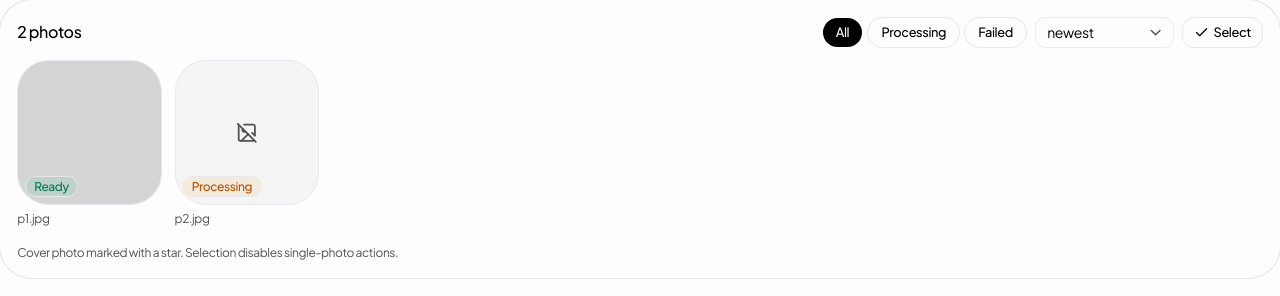
Test: PhotoGrid › filters by status through the API
Expected: the text "p1.jpg" is shown, x1=17 y1=211 x2=50 y2=226
Click the button "Processing" at (914, 32), box x1=868 y1=17 x2=960 y2=48
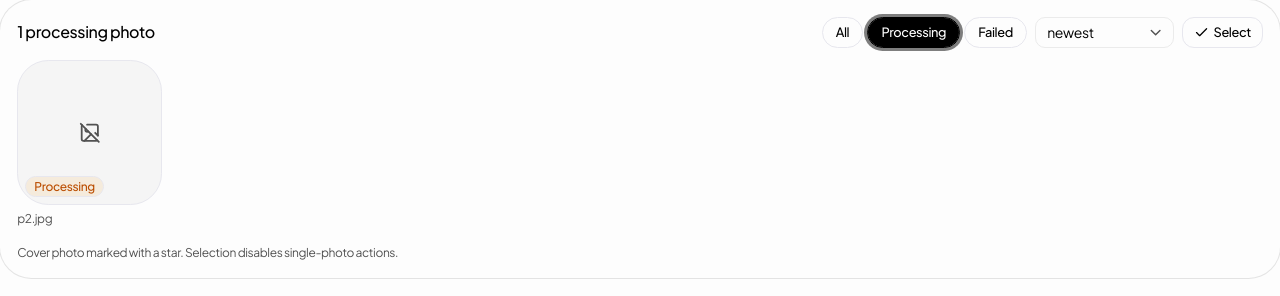
Expected: the text "p2.jpg" is shown, x1=17 y1=211 x2=52 y2=226
Expected: the text "p1.jpg" is gone
Expected: the text "1 processing photo" is shown, x1=17 y1=21 x2=155 y2=43
